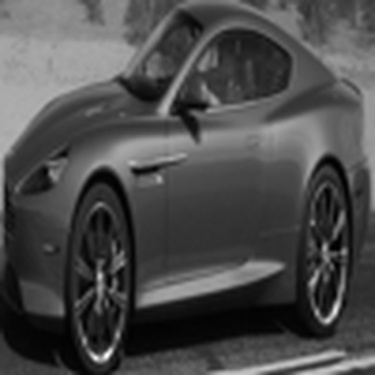car: (5, 4, 370, 370)
